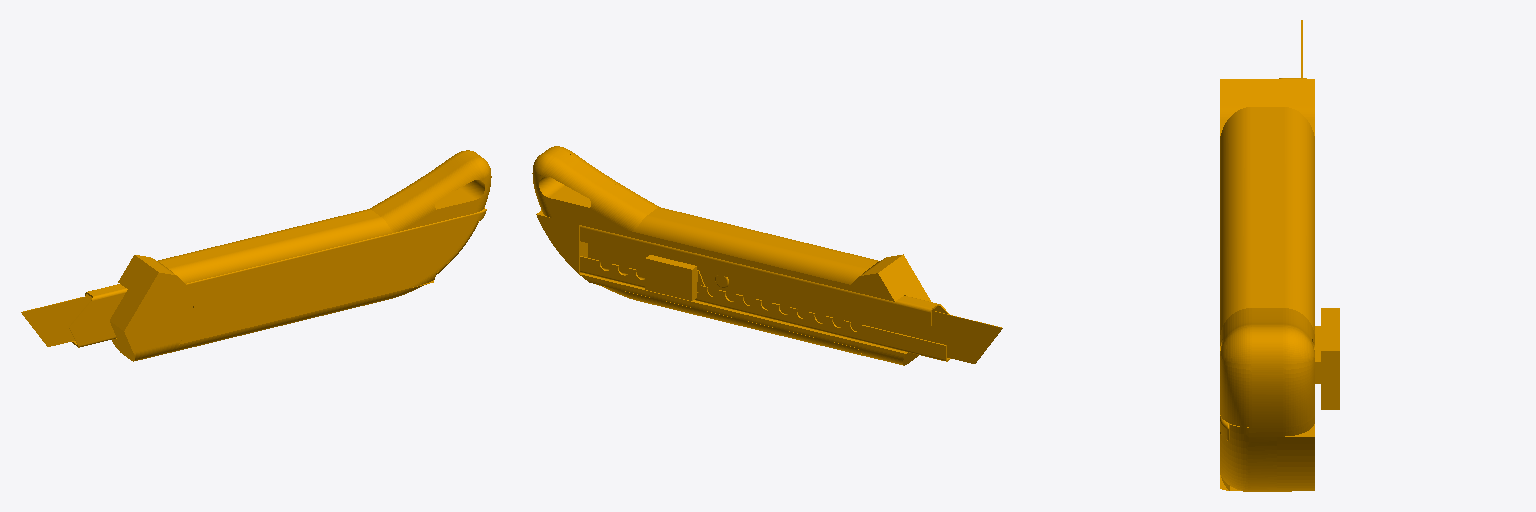
The robot description file, URDF, robot "utilityknife_2_L0.75_T0.75":
<?xml version="1.0" encoding="utf-8"?>
<robot name="utilityknife_2_L0.75_T0.75">
  <link name="utilityknife_2_L0.75_T0.75Link">
    <contact>
      <lateral_friction value="1"/>
    </contact>
    <inertial>
      <origin rpy="0 0 0" xyz="0 0 0"/>
      <mass value="0.0"/>
      <inertia ixx="0" ixy="0" ixz="0" iyy="0" iyz="0" izz="0"/>
    </inertial>
    <visual>
      <origin rpy="0 0 0" xyz="0 0 0"/>
      <geometry>
        <mesh filename="generated_stl/utilityknife/utilityknife_2/utilityknife_2_L0.75_T0.75/utilityknife_2_L0.75_T0.75.stl" scale="0.01 0.01 0.01"/>
      </geometry>
    </visual>
    <collision>
      <origin rpy="0 0 0" xyz="0 0 0"/>
      <geometry>
        <mesh filename="generated_stl/utilityknife/utilityknife_2/utilityknife_2_L0.75_T0.75/utilityknife_2_L0.75_T0.75.stl" scale="0.01 0.01 0.01"/>
      </geometry>
    </collision>
  </link>
</robot>

--- What the picture shows (computed from the rendered views, not written in the file) ---
The picture shows the robot from 3 angles, left to right: view 1: azimuth 30°, elevation 25°; view 2: azimuth 150°, elevation 25°; view 3: azimuth 270°, elevation 25°; orthographic projection.
Model utilityknife_2_L0.75_T0.75 with 1 links and 0 joints (none), rooted at utilityknife_2_L0.75_T0.75Link, posed every joint at zero.
Links seen in each view (by area): view 1: utilityknife_2_L0.75_T0.75Link; view 2: utilityknife_2_L0.75_T0.75Link; view 3: utilityknife_2_L0.75_T0.75Link.
Boxes of the visible links, bbox=[...] form: utilityknife_2_L0.75_T0.75Link: bbox=[21, 150, 491, 361]; utilityknife_2_L0.75_T0.75Link: bbox=[532, 146, 1002, 365]; utilityknife_2_L0.75_T0.75Link: bbox=[1220, 20, 1339, 491].
Bounding box of the posed robot: 0.075 × 0.0089 × 0.0186 m (x, y, z).
Meshes: 1 distinct files referenced, 1 mesh visuals loaded (1 binary STL).